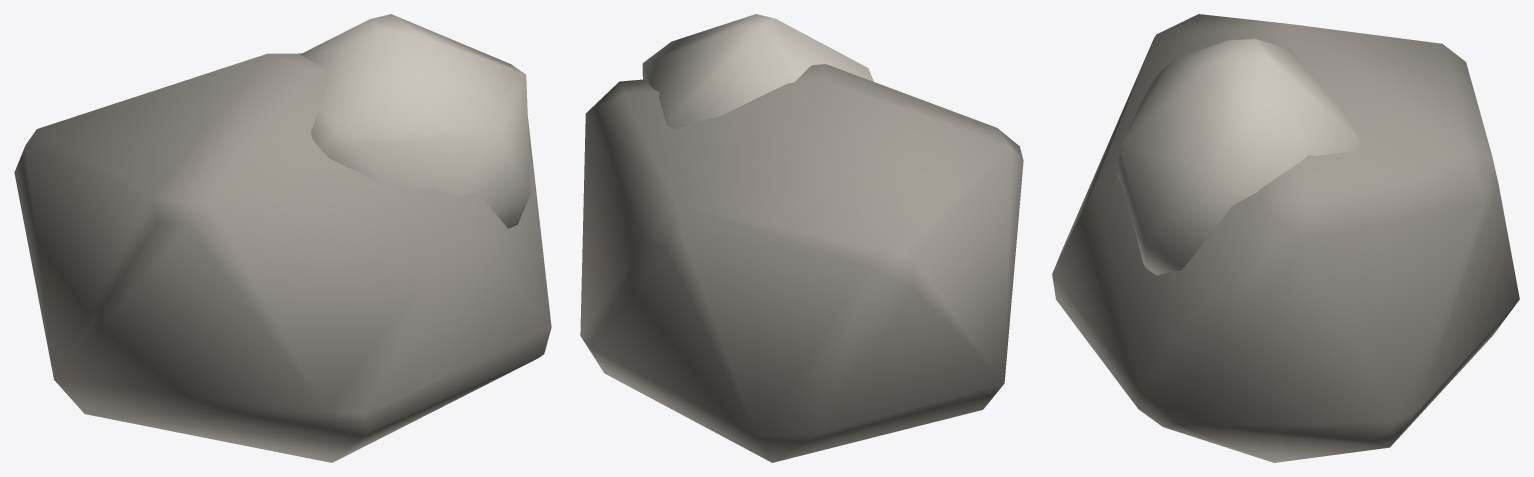
The model's file is X_MedCatapultStone.fbx.
3 views of the same model, side by side, from view 1: azimuth 30°, elevation 25°; view 2: azimuth 150°, elevation 25°; view 3: azimuth 270°, elevation 25° (orthographic). The views are drawn at different scales.
Parts seen in each view (by area): view 1: M_CatapultStone; view 2: M_CatapultStone; view 3: M_CatapultStone.
Part boxes in pixels (left/top/right/bottom): M_CatapultStone: left=14, top=14, right=551, bottom=462; M_CatapultStone: left=580, top=14, right=1023, bottom=462; M_CatapultStone: left=1052, top=14, right=1519, bottom=462.
Size of the model in its own units: 0.598 by 0.5453 by 0.5284.
Materials: 1 (1 with a texture image).
